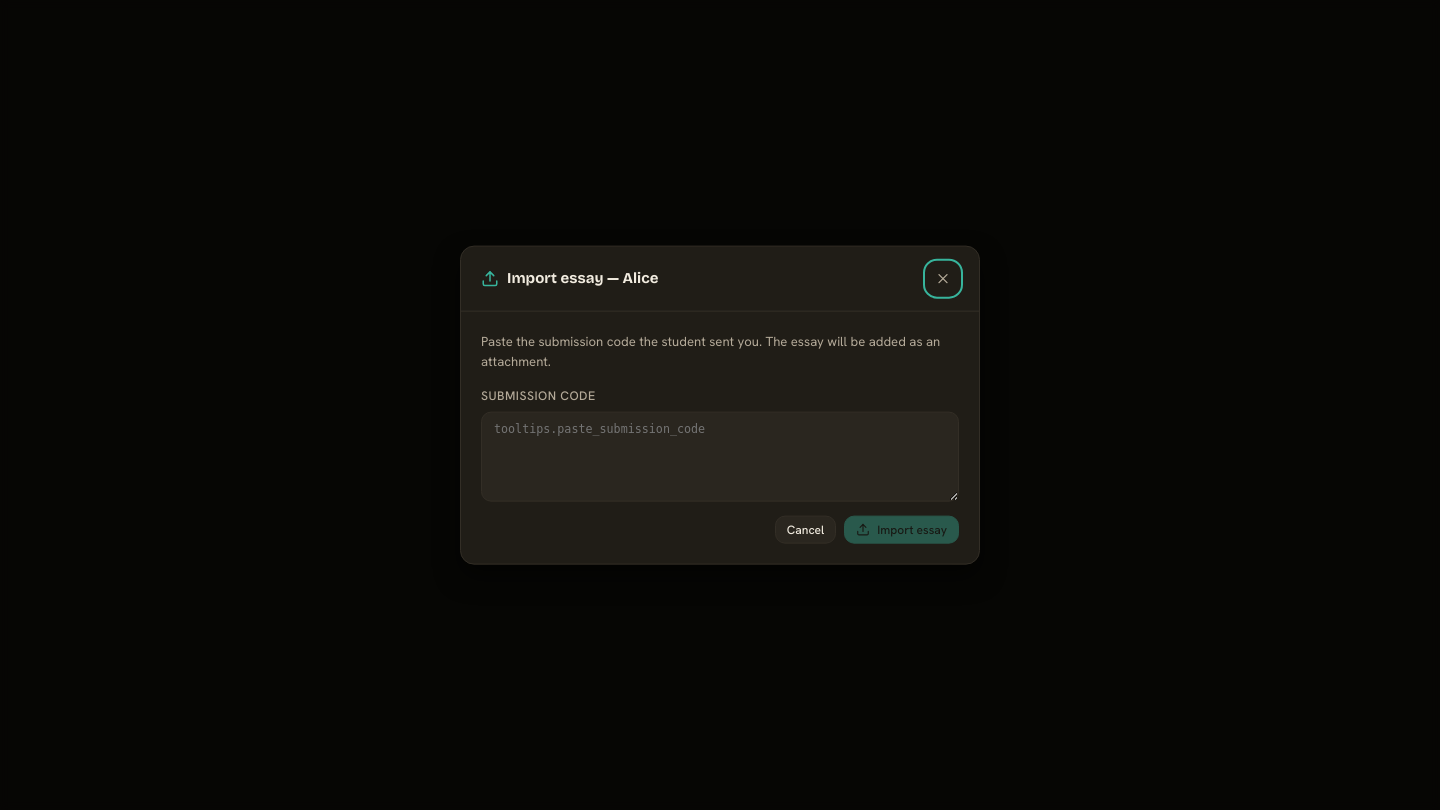
it: EssayImportModal › shows error when rubricId does not match
Type "code" into the text box with placeholder "tooltips.paste_submission_code" at (720, 456), box [481,411,959,501]
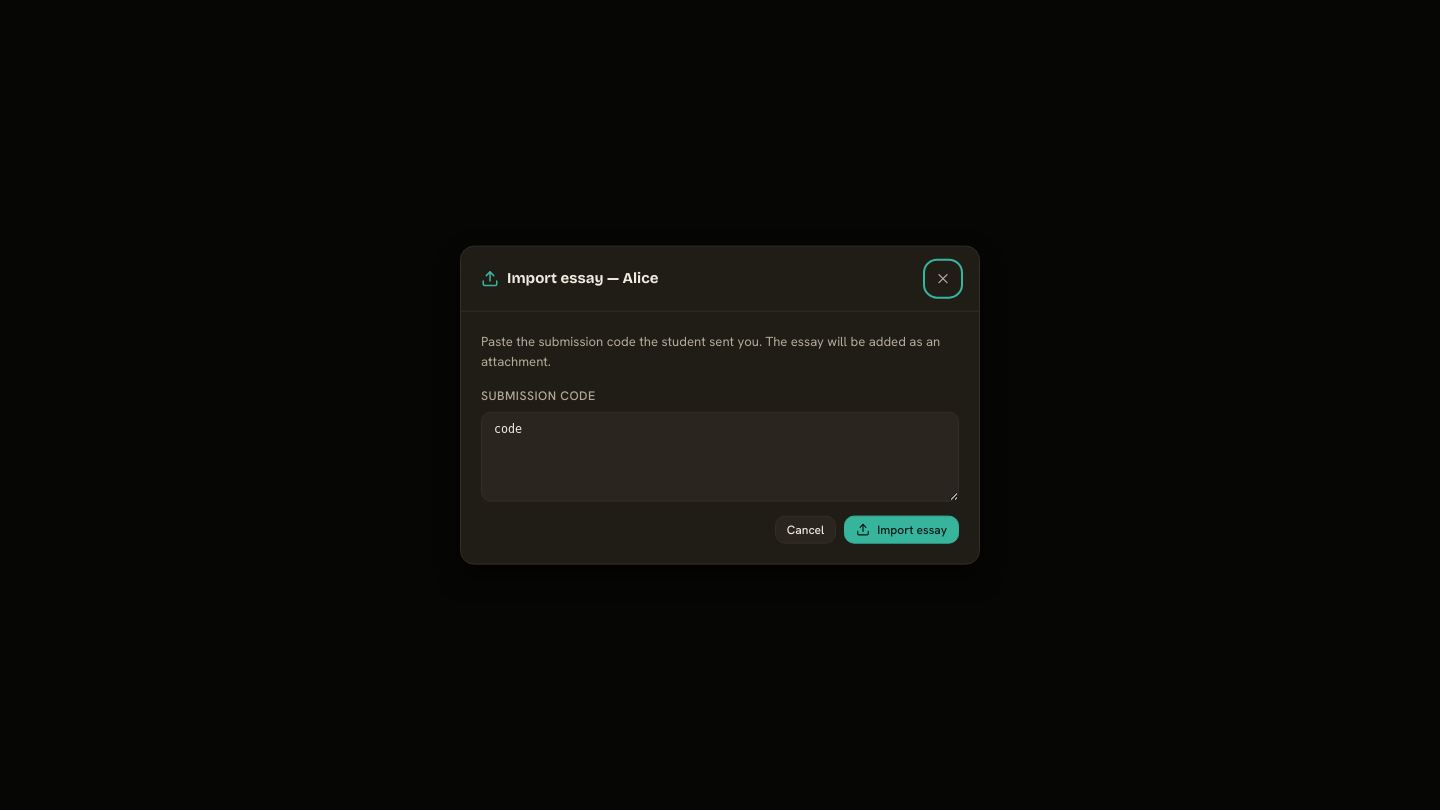
Click the button "Import essay" at (902, 529), box [844,515,959,543]
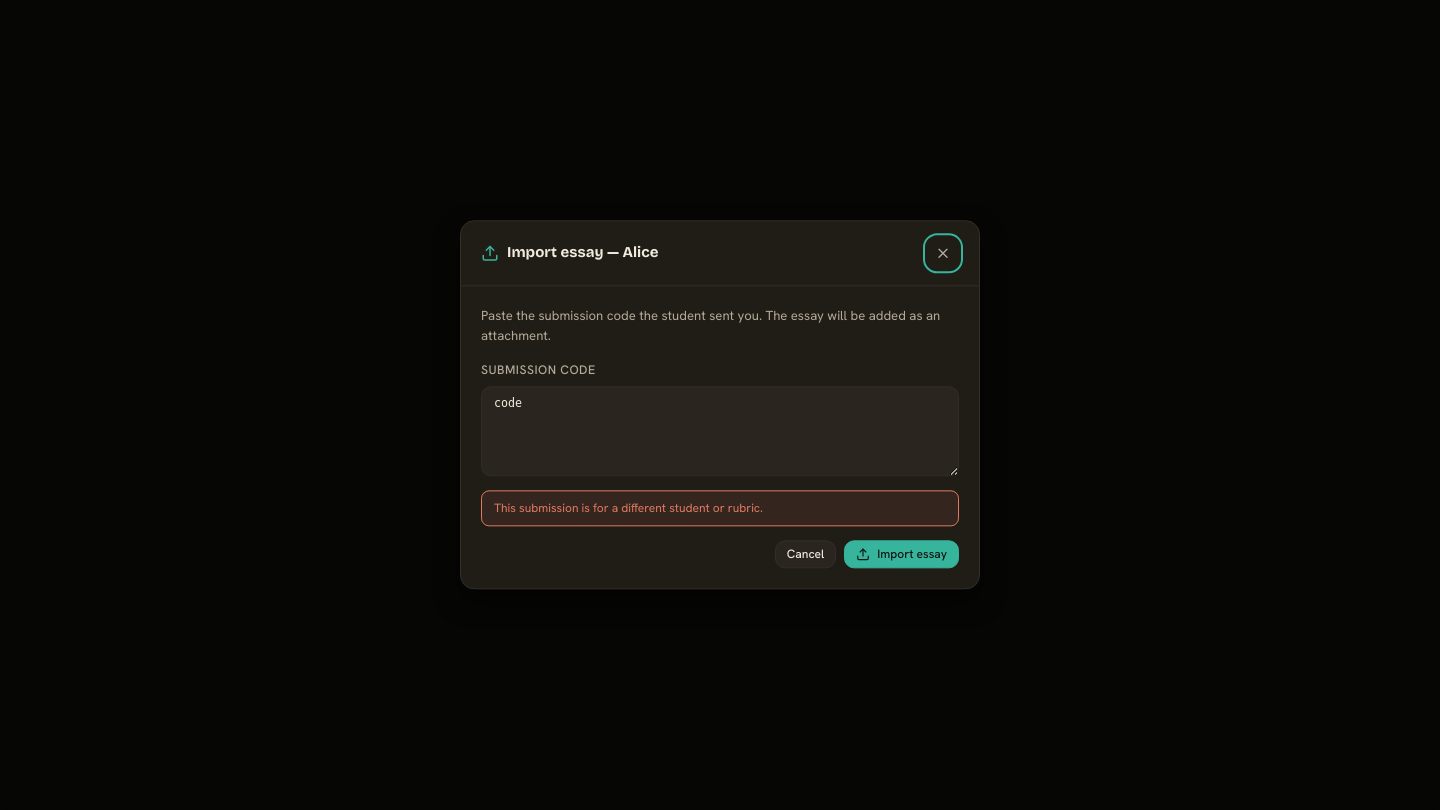
Expected: the text "This submission is for a different student or rubric." is shown, [481,490,959,527]
